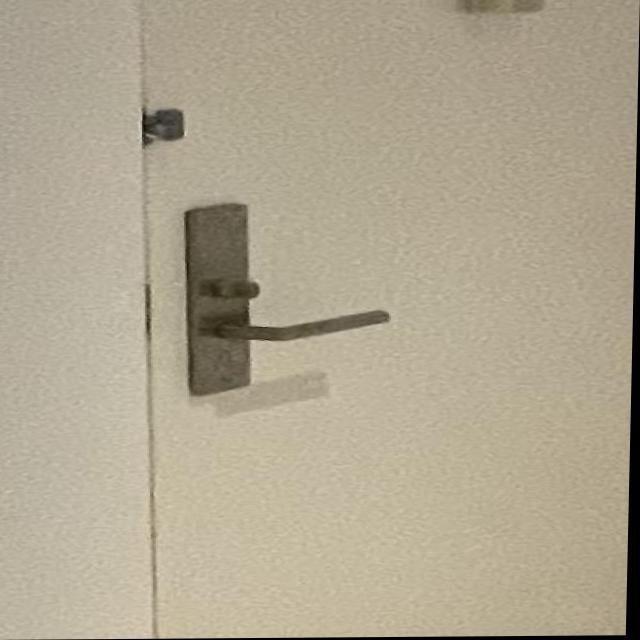door_handle: (170, 304, 413, 360)
